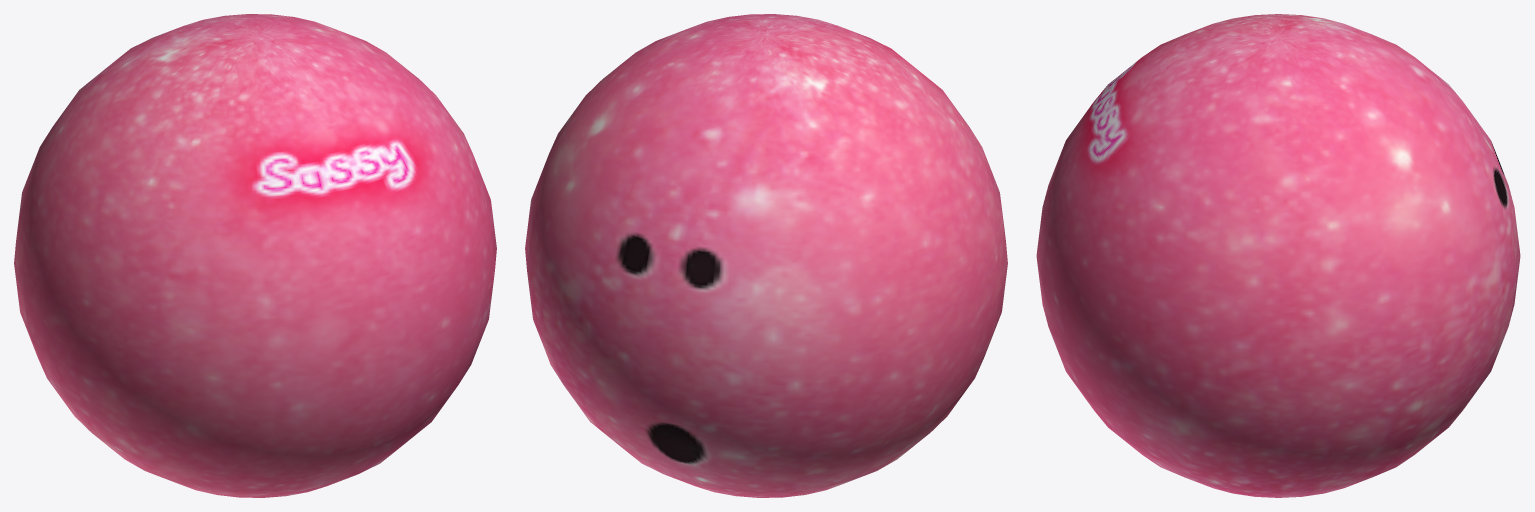
File: Ball10.fbx
3 views of the same model, side by side, from view 1: azimuth 30°, elevation 25°; view 2: azimuth 150°, elevation 25°; view 3: azimuth 270°, elevation 25° (orthographic).
Visible parts, largest first — view 1: Empty_Mesh; view 2: Empty_Mesh; view 3: Empty_Mesh.
Boxes of the visible parts, x1,y1,x2,y2 form: Empty_Mesh: (14,14,496,497); Empty_Mesh: (525,14,1007,497); Empty_Mesh: (1036,14,1520,497).
Size of the model in its own units: 0.2266 by 0.2266 by 0.2266.
